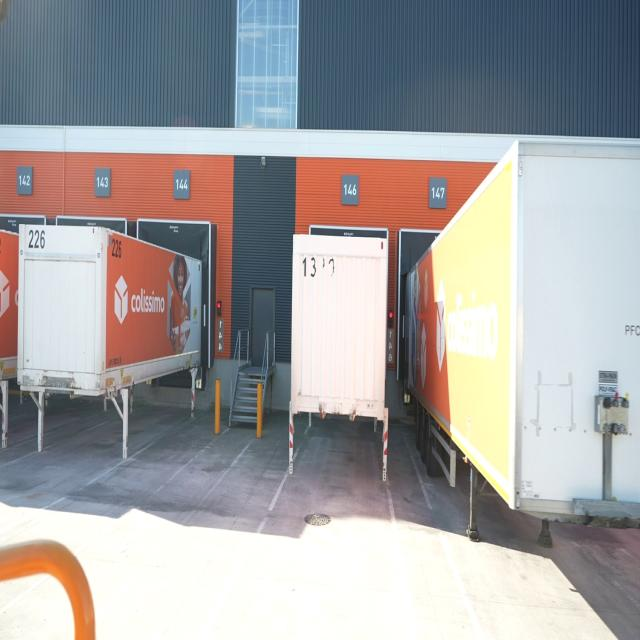Code: (298, 250, 336, 282), (23, 225, 48, 254), (105, 231, 125, 263)
